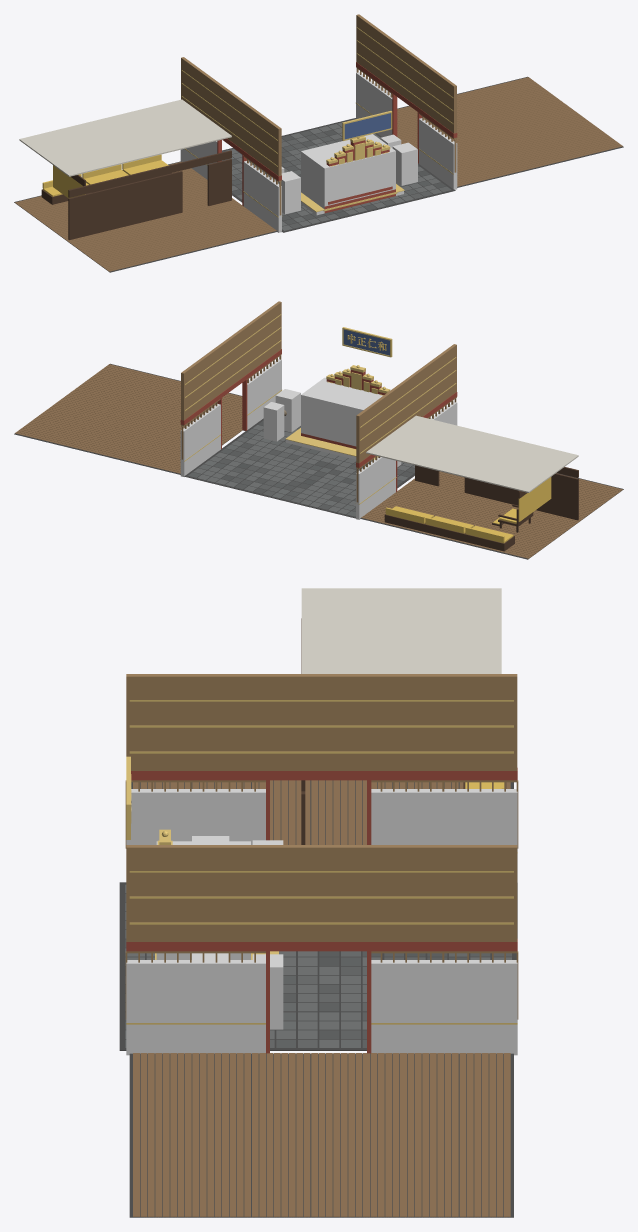
File: yangxin.glb
3 views of the same model, one above another, from view 1: azimuth 30°, elevation 25°; view 2: azimuth 150°, elevation 25°; view 3: azimuth 270°, elevation 25° (orthographic). The views are drawn at different scales.
Visible parts, largest first — view 1: merged_wood_floor, merged_nanmu, R88_YX_PALE_CEILING, R88_YX_NORTH_WEST, COL_dais, floor_tiles, merged_brick_grout, merged_gold_lacquer, merged_red_lacquer, COL_part_1_n, COL_part_-1_n, COL_part_1_s (+7 smaller); view 2: merged_wood_floor, merged_nanmu, floor_tiles, R88_YX_PALE_CEILING, merged_brick_grout, COL_dais, merged_gold_lacquer, R88_YX_NORTH_WEST, COL_part_1_s, merged_red_lacquer, COL_part_-1_s, COL_part_1_n (+7 smaller); view 3: merged_nanmu, merged_wood_floor, merged_brick_grout, R88_YX_PALE_CEILING, COL_part_1_s, COL_part_1_n, merged_red_lacquer, floor_tiles, COL_part_-1_s, merged_gold_lacquer, COL_part_-1_n, COL_xt_1.
Part boxes in pixels (x1=…): merged_wood_floor: x1=15, y1=77, x2=622, y2=271; merged_nanmu: x1=181, y1=14, x2=456, y2=215; R88_YX_PALE_CEILING: x1=19, y1=99, x2=231, y2=176; R88_YX_NORTH_WEST: x1=68, y1=171, x2=182, y2=240; COL_dais: x1=301, y1=134, x2=395, y2=209; floor_tiles: x1=222, y1=119, x2=451, y2=230; merged_brick_grout: x1=14, y1=76, x2=623, y2=272; merged_gold_lacquer: x1=181, y1=27, x2=453, y2=217; merged_red_lacquer: x1=217, y1=62, x2=457, y2=213; COL_part_1_n: x1=419, y1=118, x2=457, y2=189; COL_part_-1_n: x1=243, y1=161, x2=281, y2=232; COL_part_1_s: x1=356, y1=72, x2=392, y2=137; merged_wood_floor: x1=15, y1=364, x2=622, y2=558; merged_nanmu: x1=181, y1=301, x2=456, y2=502; floor_tiles: x1=188, y1=421, x2=414, y2=516; R88_YX_PALE_CEILING: x1=366, y1=415, x2=578, y2=492; merged_brick_grout: x1=14, y1=363, x2=623, y2=559; COL_dais: x1=301, y1=377, x2=382, y2=446; merged_gold_lacquer: x1=184, y1=314, x2=456, y2=504; R88_YX_NORTH_WEST: x1=464, y1=473, x2=578, y2=520; COL_part_1_s: x1=180, y1=404, x2=220, y2=476; merged_red_lacquer: x1=180, y1=349, x2=457, y2=491; COL_part_-1_s: x1=356, y1=457, x2=395, y2=519; COL_part_1_n: x1=243, y1=359, x2=281, y2=431; merged_nanmu: x1=125, y1=674, x2=518, y2=1019; merged_wood_floor: x1=133, y1=780, x2=510, y2=1217; merged_brick_grout: x1=119, y1=780, x2=517, y2=1217; R88_YX_PALE_CEILING: x1=301, y1=588, x2=501, y2=673; COL_part_1_s: x1=371, y1=960, x2=517, y2=1055; COL_part_1_n: x1=126, y1=960, x2=265, y2=1055; merged_red_lacquer: x1=126, y1=768, x2=517, y2=1053; floor_tiles: x1=125, y1=884, x2=511, y2=1047; COL_part_-1_s: x1=371, y1=789, x2=517, y2=882; merged_gold_lacquer: x1=126, y1=700, x2=517, y2=1024; COL_part_-1_n: x1=126, y1=789, x2=265, y2=844; COL_xt_1: x1=252, y1=954, x2=283, y2=1029.
Size of the model in its own units: 35.2 by 6.78 by 11.82.
